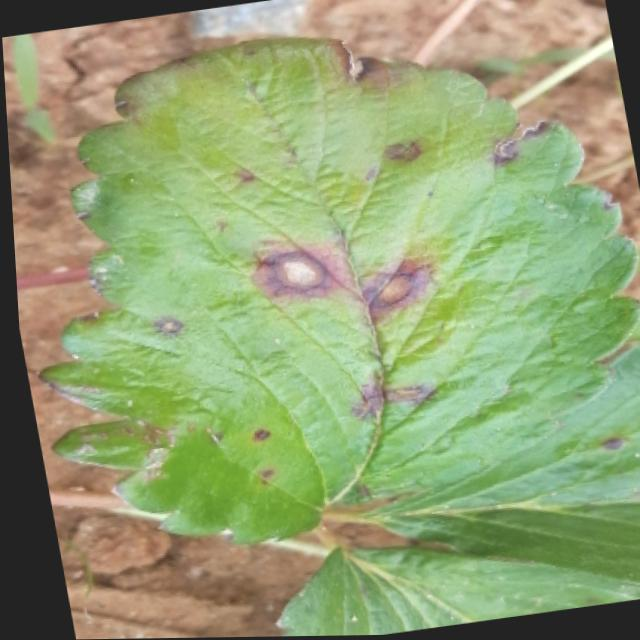Leaf Spot: (32, 37, 638, 551), (350, 336, 640, 591), (263, 545, 640, 637)
